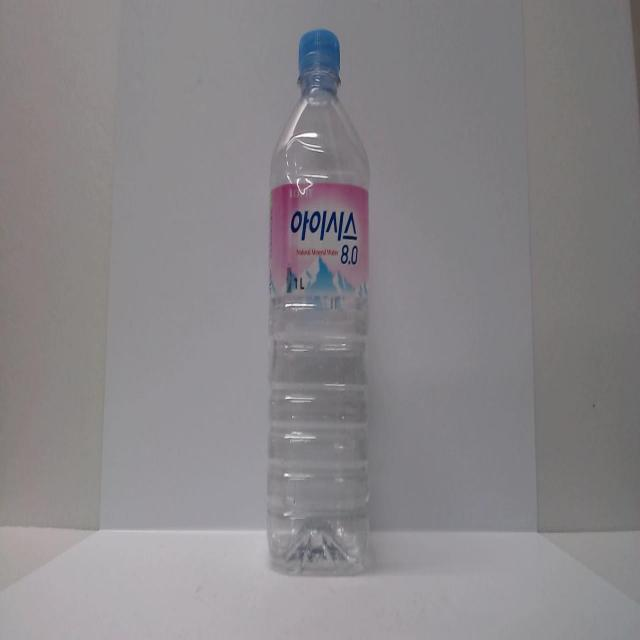bottle: (250, 34, 384, 578)
